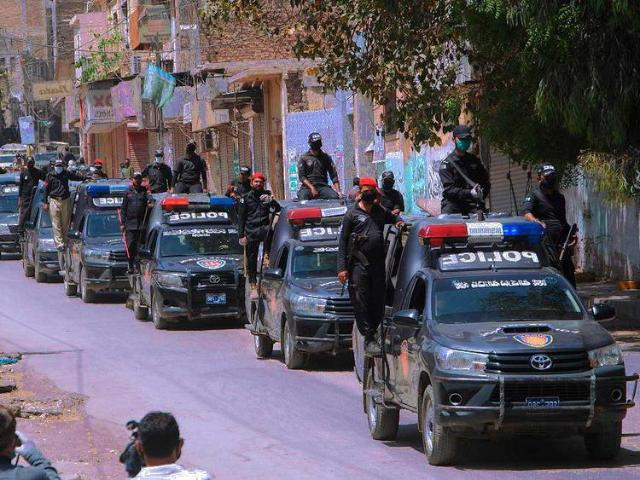police_car: (364, 222, 633, 463), (251, 205, 369, 374), (142, 192, 255, 329), (59, 181, 147, 305)
